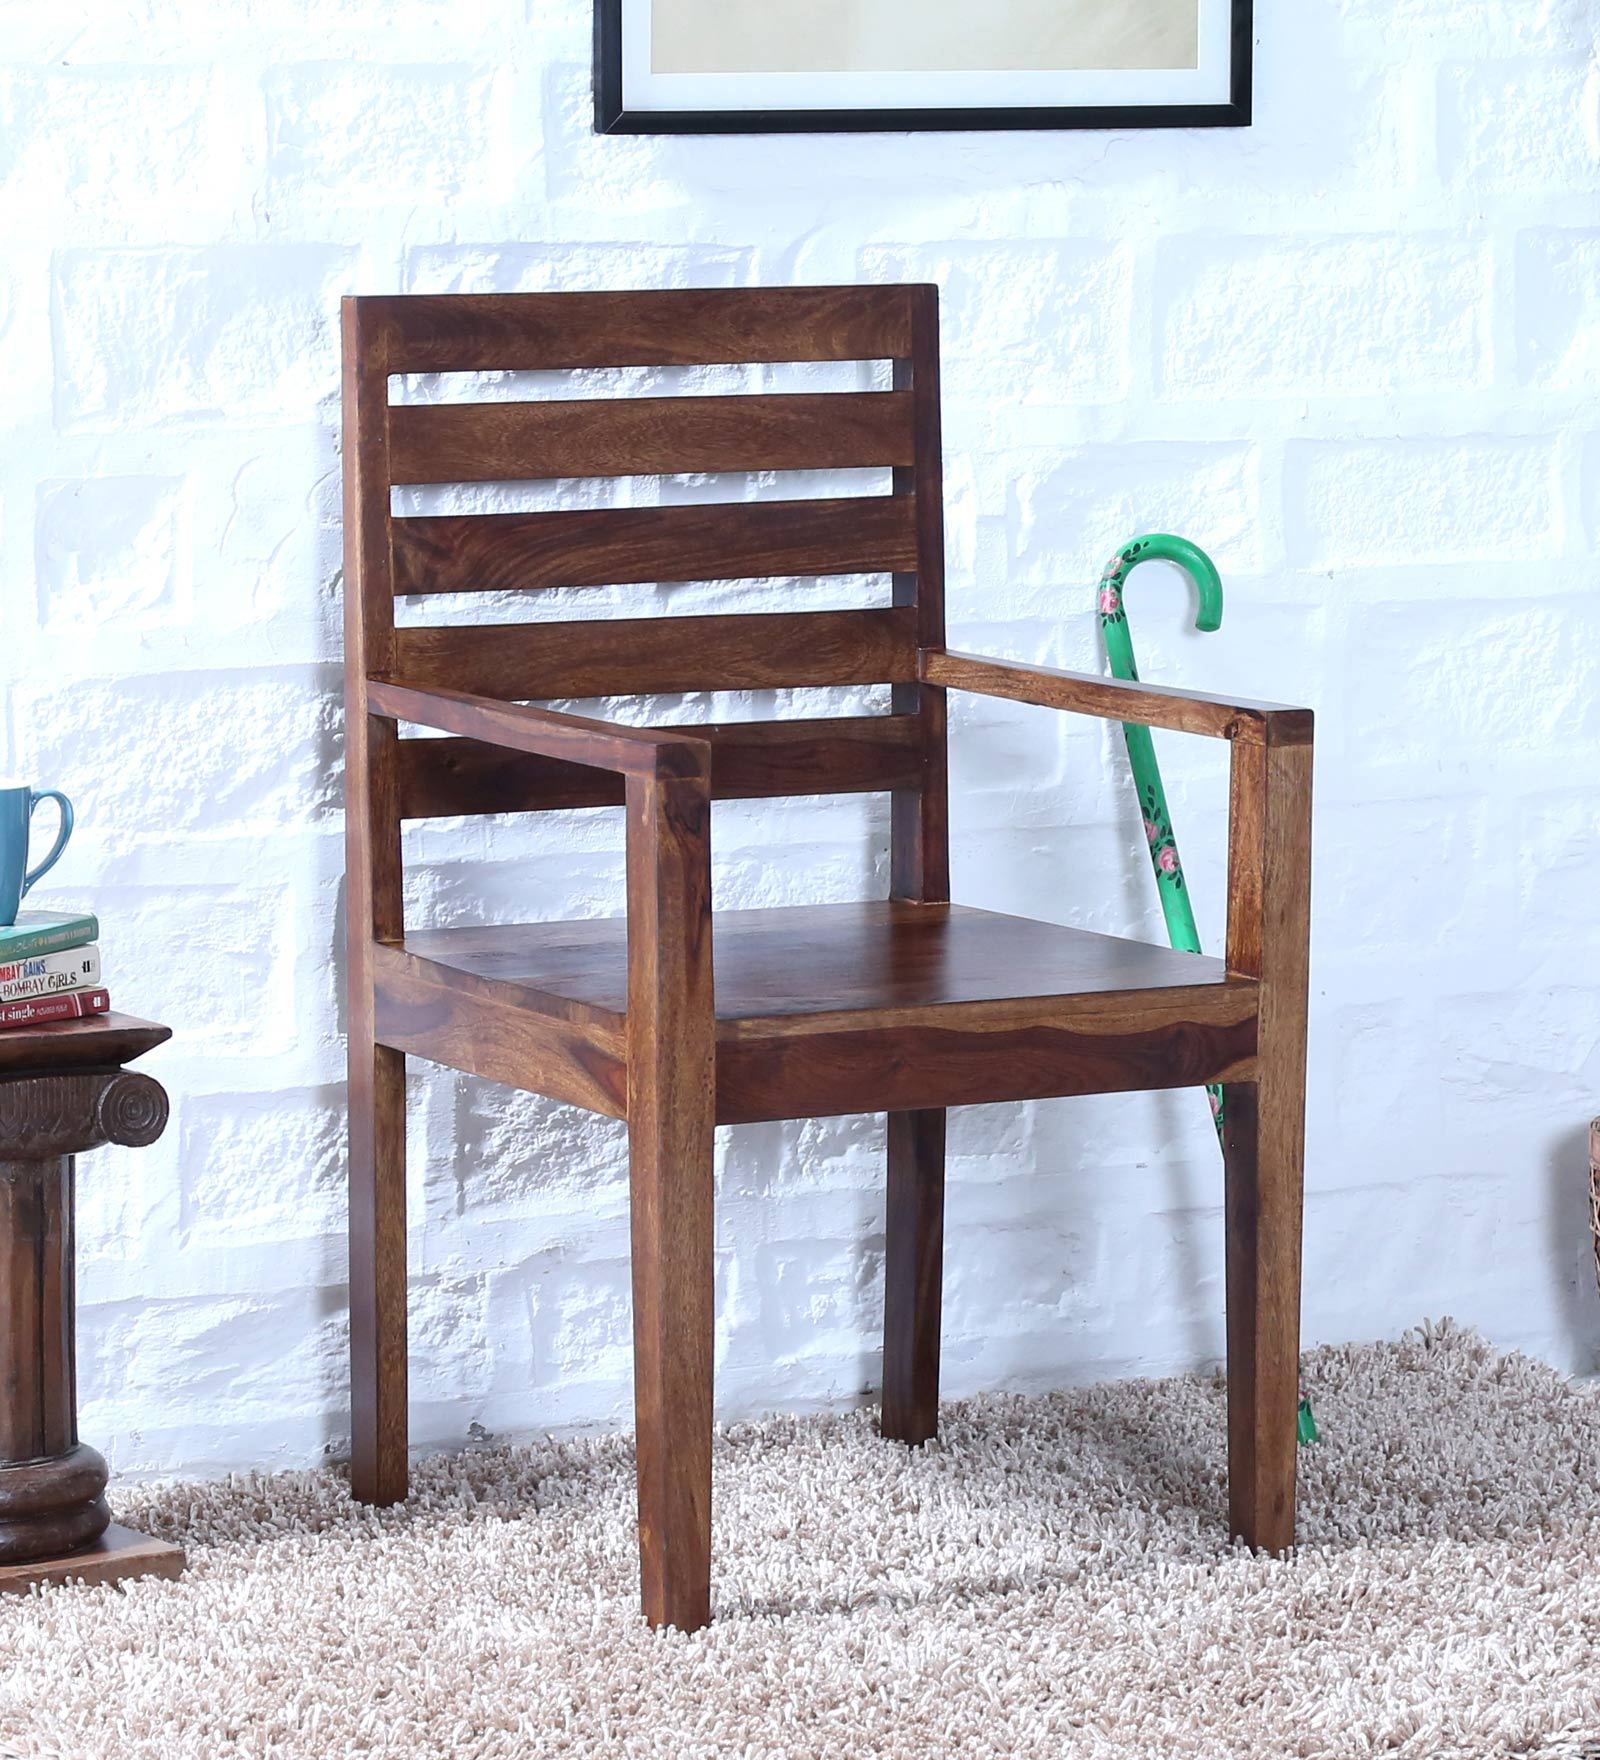Stigen Arm Chair in Provincial Teak Finish by Woodsworth: (280, 231, 1358, 1640)
